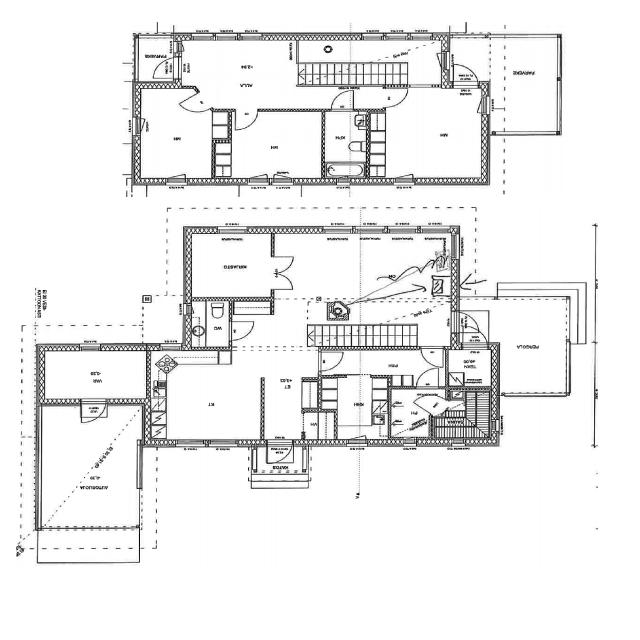door: (270, 253, 298, 292), (327, 87, 358, 113), (226, 317, 257, 343), (317, 348, 346, 373), (450, 62, 479, 87), (77, 400, 107, 424), (382, 85, 409, 110), (265, 441, 293, 464), (418, 345, 446, 368), (232, 108, 258, 132), (178, 90, 204, 114), (414, 368, 440, 389)
window: (27, 422, 48, 483), (131, 479, 147, 528), (552, 36, 566, 82), (217, 224, 248, 237), (343, 438, 369, 449), (407, 82, 439, 90), (399, 442, 418, 450)
zone: (272, 236, 453, 342), (34, 405, 144, 530), (367, 86, 490, 185), (152, 358, 268, 444), (132, 89, 226, 181), (178, 37, 296, 106), (492, 298, 570, 395), (297, 37, 448, 86), (36, 348, 154, 406), (228, 112, 322, 181), (184, 233, 274, 301), (322, 376, 389, 442), (311, 348, 441, 380), (388, 387, 445, 441), (321, 109, 369, 164), (183, 300, 230, 354), (445, 344, 498, 388), (137, 37, 180, 81), (300, 409, 334, 445), (322, 163, 366, 183), (355, 86, 385, 111)
